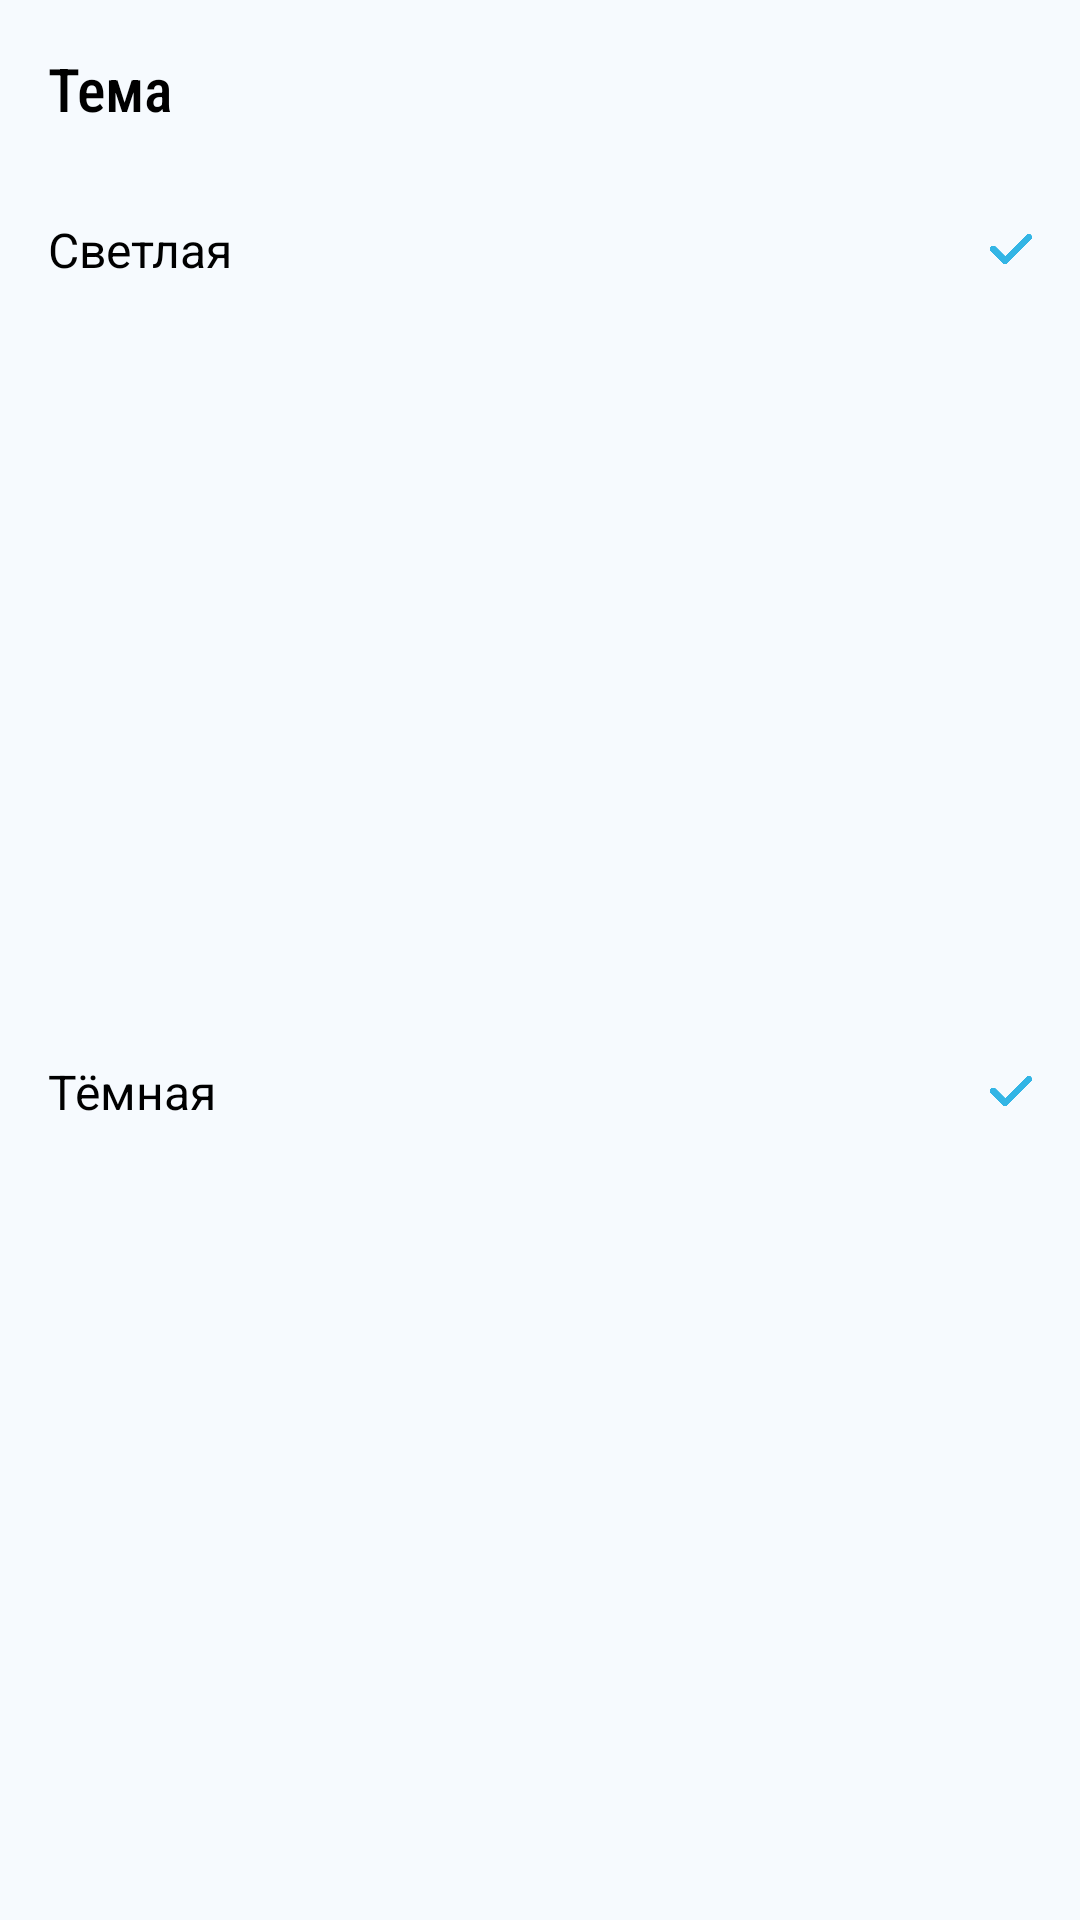

Point at icon controls on the screen. Image size 1080x1920, points as [x,y].
check: [1011,249], [1011,1091]
